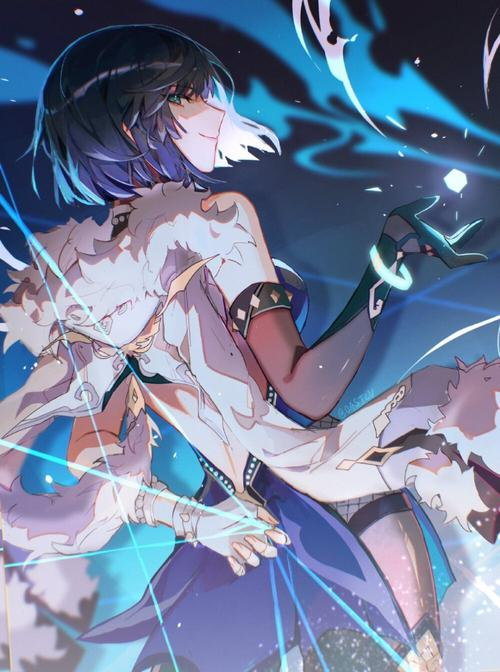夜兰: (25, 24, 491, 672)
